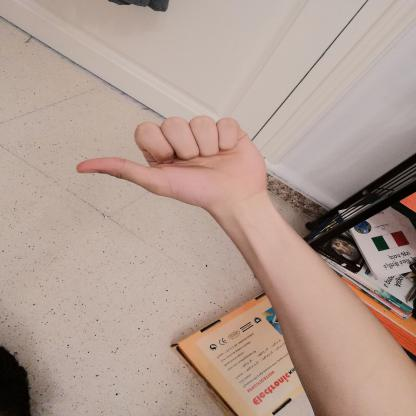DAD: (61, 108, 274, 215)
